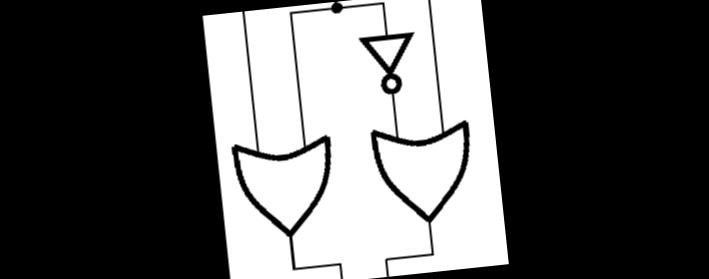not: (351, 19, 425, 103)
or: (224, 123, 346, 248), (362, 113, 483, 233)
